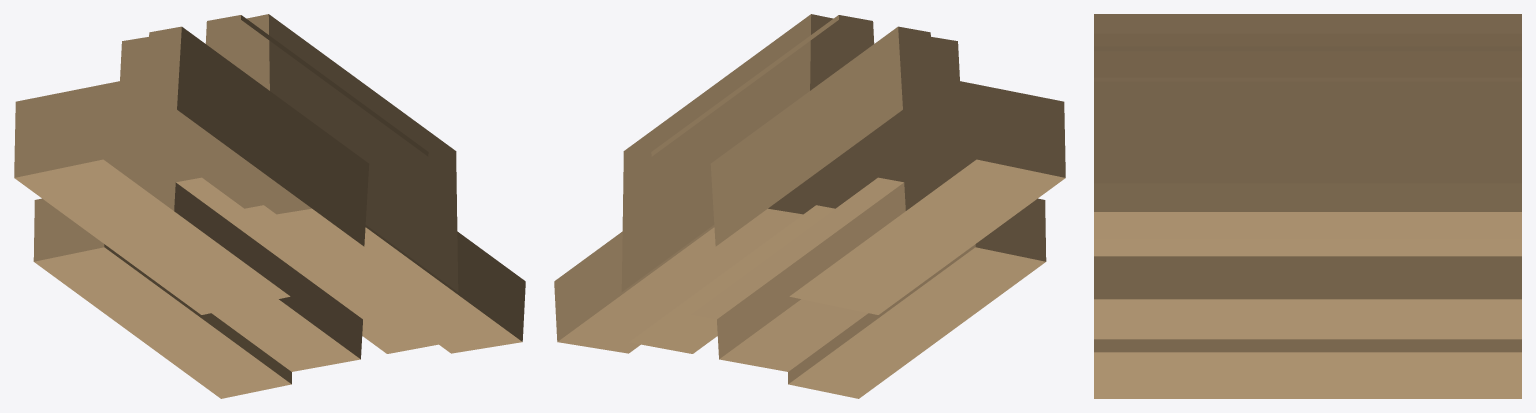
3 views of the same model, side by side, from view 1: azimuth 30°, elevation 25°; view 2: azimuth 150°, elevation 25°; view 3: azimuth 270°, elevation 25° (orthographic). The views are drawn at different scales.
Parts seen in each view (by area): view 1: 0_3_2_0_1_3_1_0_0; view 2: 0_3_2_0_1_3_1_0_0; view 3: 0_3_2_0_1_3_1_0_0.
Part boxes in pixels (x1,y1,x2,y2): 0_3_2_0_1_3_1_0_0: [14, 14, 525, 398]; 0_3_2_0_1_3_1_0_0: [554, 14, 1065, 398]; 0_3_2_0_1_3_1_0_0: [1094, 14, 1521, 398].
Size of the model in its own units: 29.97 by 19.25 by 30.
